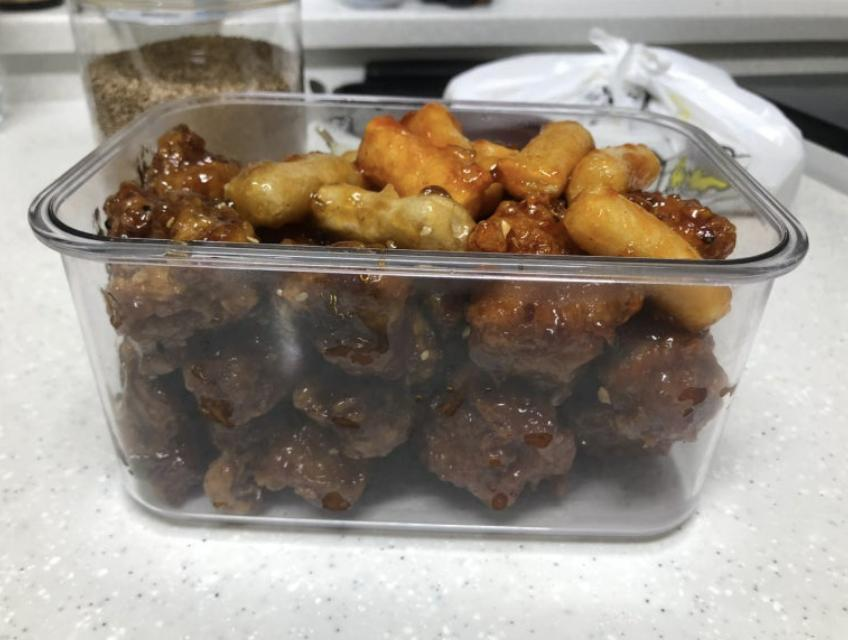Lunch Box: (30, 93, 807, 536)
